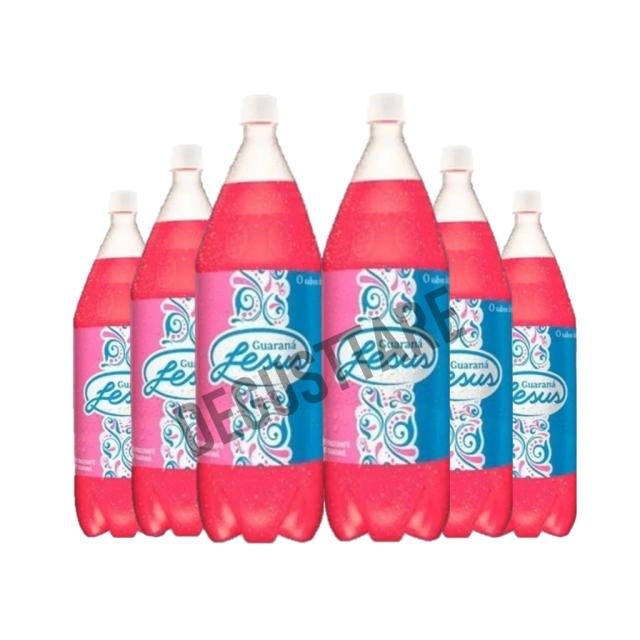bottom: (198, 460, 324, 542), (326, 459, 449, 541), (444, 465, 512, 538), (132, 466, 202, 536), (506, 472, 576, 538), (75, 475, 139, 538)
label: (196, 269, 324, 466), (322, 268, 449, 465), (131, 298, 198, 469), (450, 299, 512, 471), (512, 326, 576, 477), (74, 325, 131, 478)
neck: (324, 94, 448, 271), (198, 95, 320, 272), (131, 145, 211, 300), (434, 146, 510, 299), (501, 191, 575, 327), (81, 191, 144, 326)
